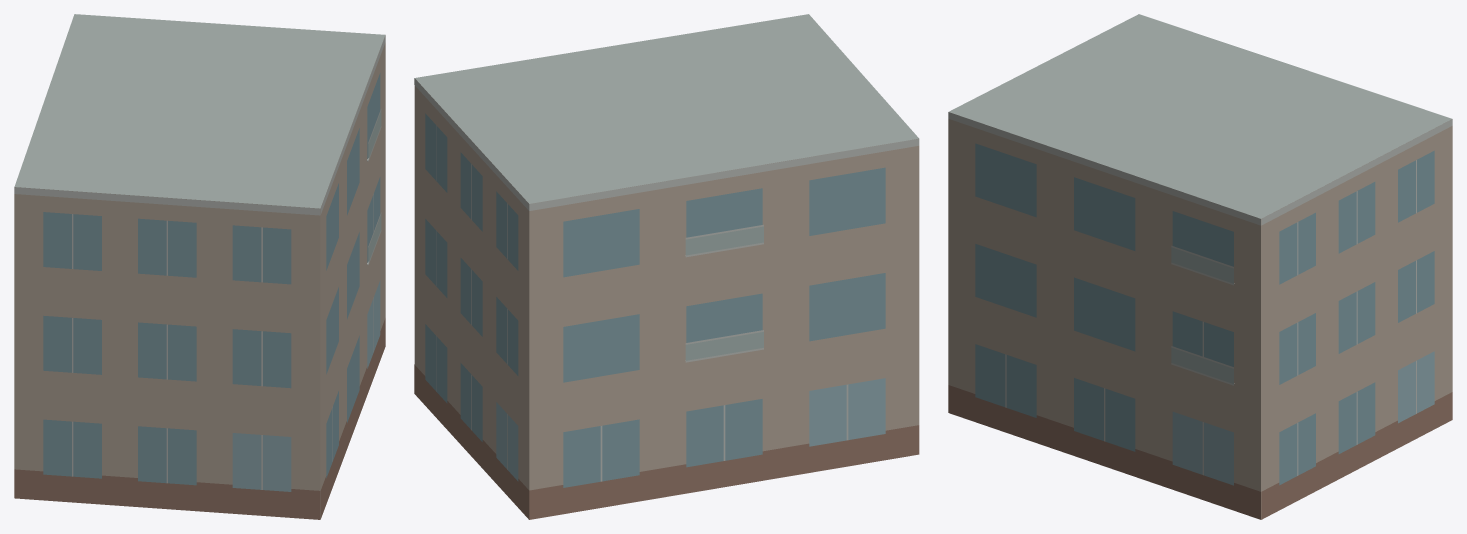
Rendered from survey-upis-32855235.glb.
The picture shows the model from 3 angles, left to right: view 1: azimuth 30°, elevation 25°; view 2: azimuth 150°, elevation 25°; view 3: azimuth 270°, elevation 25°; orthographic projection. The views are drawn at different scales.
Parts seen in each view (by area): view 1: survey-upis-32855235.tmp; view 2: survey-upis-32855235.tmp; view 3: survey-upis-32855235.tmp.
Boxes of the visible parts, box(x1,y1,x2,y2) form: survey-upis-32855235.tmp: box(14, 14, 385, 519); survey-upis-32855235.tmp: box(414, 14, 919, 519); survey-upis-32855235.tmp: box(948, 14, 1452, 519).
Bounding box in the file's own units: 15.78 × 10.8 × 16.41.
